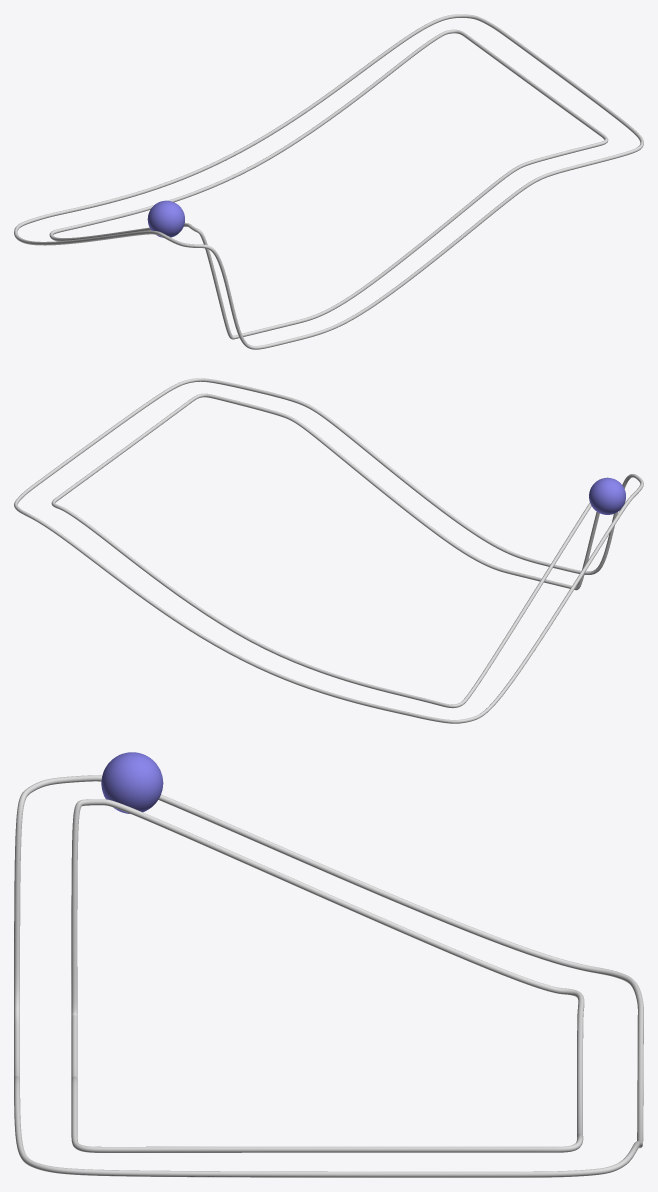
3 views of the same model, one above another, from view 1: azimuth 30°, elevation 25°; view 2: azimuth 150°, elevation 25°; view 3: azimuth 270°, elevation 25° (orthographic). The views are drawn at different scales.
Parts seen in each view (by area): view 1: NurbsPath, Sphere; view 2: NurbsPath, Sphere; view 3: NurbsPath, Sphere.
Boxes of the visible parts, <box> form: NurbsPath: <box>14,14,643,349</box>; Sphere: <box>147,200,184,237</box>; NurbsPath: <box>14,378,643,723</box>; Sphere: <box>589,477,625,514</box>; NurbsPath: <box>14,775,643,1177</box>; Sphere: <box>101,752,163,813</box>.
Size of the model in its own units: 10.23 by 2.82 by 7.09.
